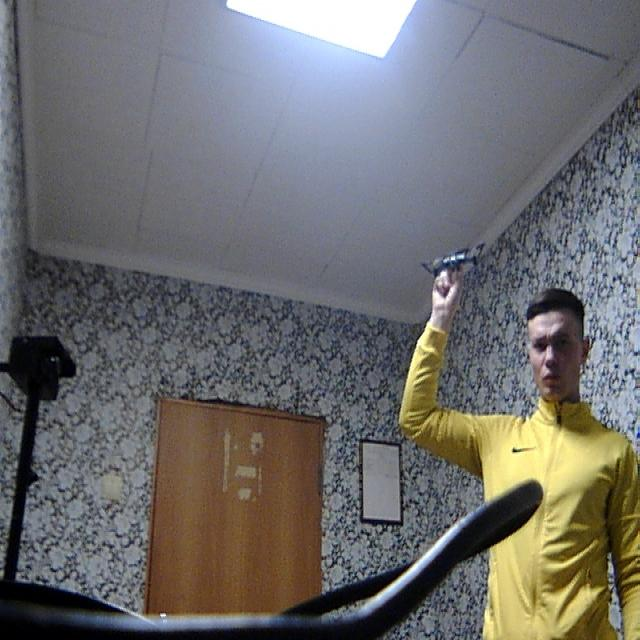drone: (420, 239, 493, 278)
